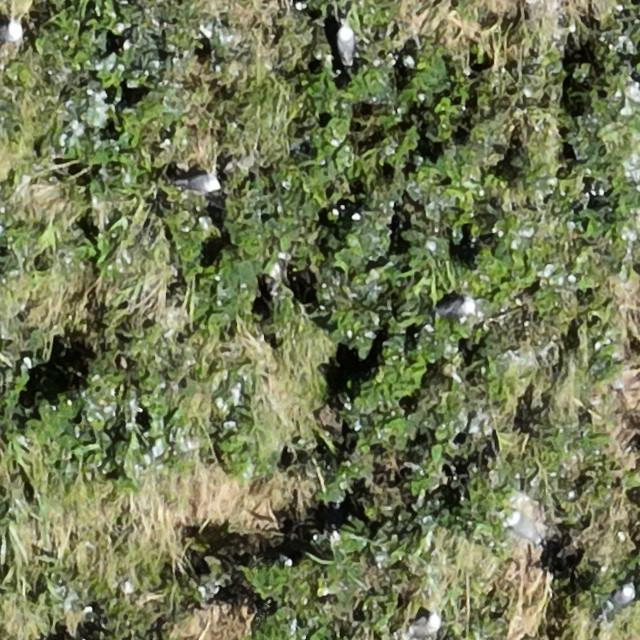umineko: (434, 291, 475, 322), (508, 516, 540, 540), (336, 25, 354, 64), (610, 582, 636, 608), (182, 173, 219, 191), (411, 616, 439, 638), (3, 21, 21, 42)
